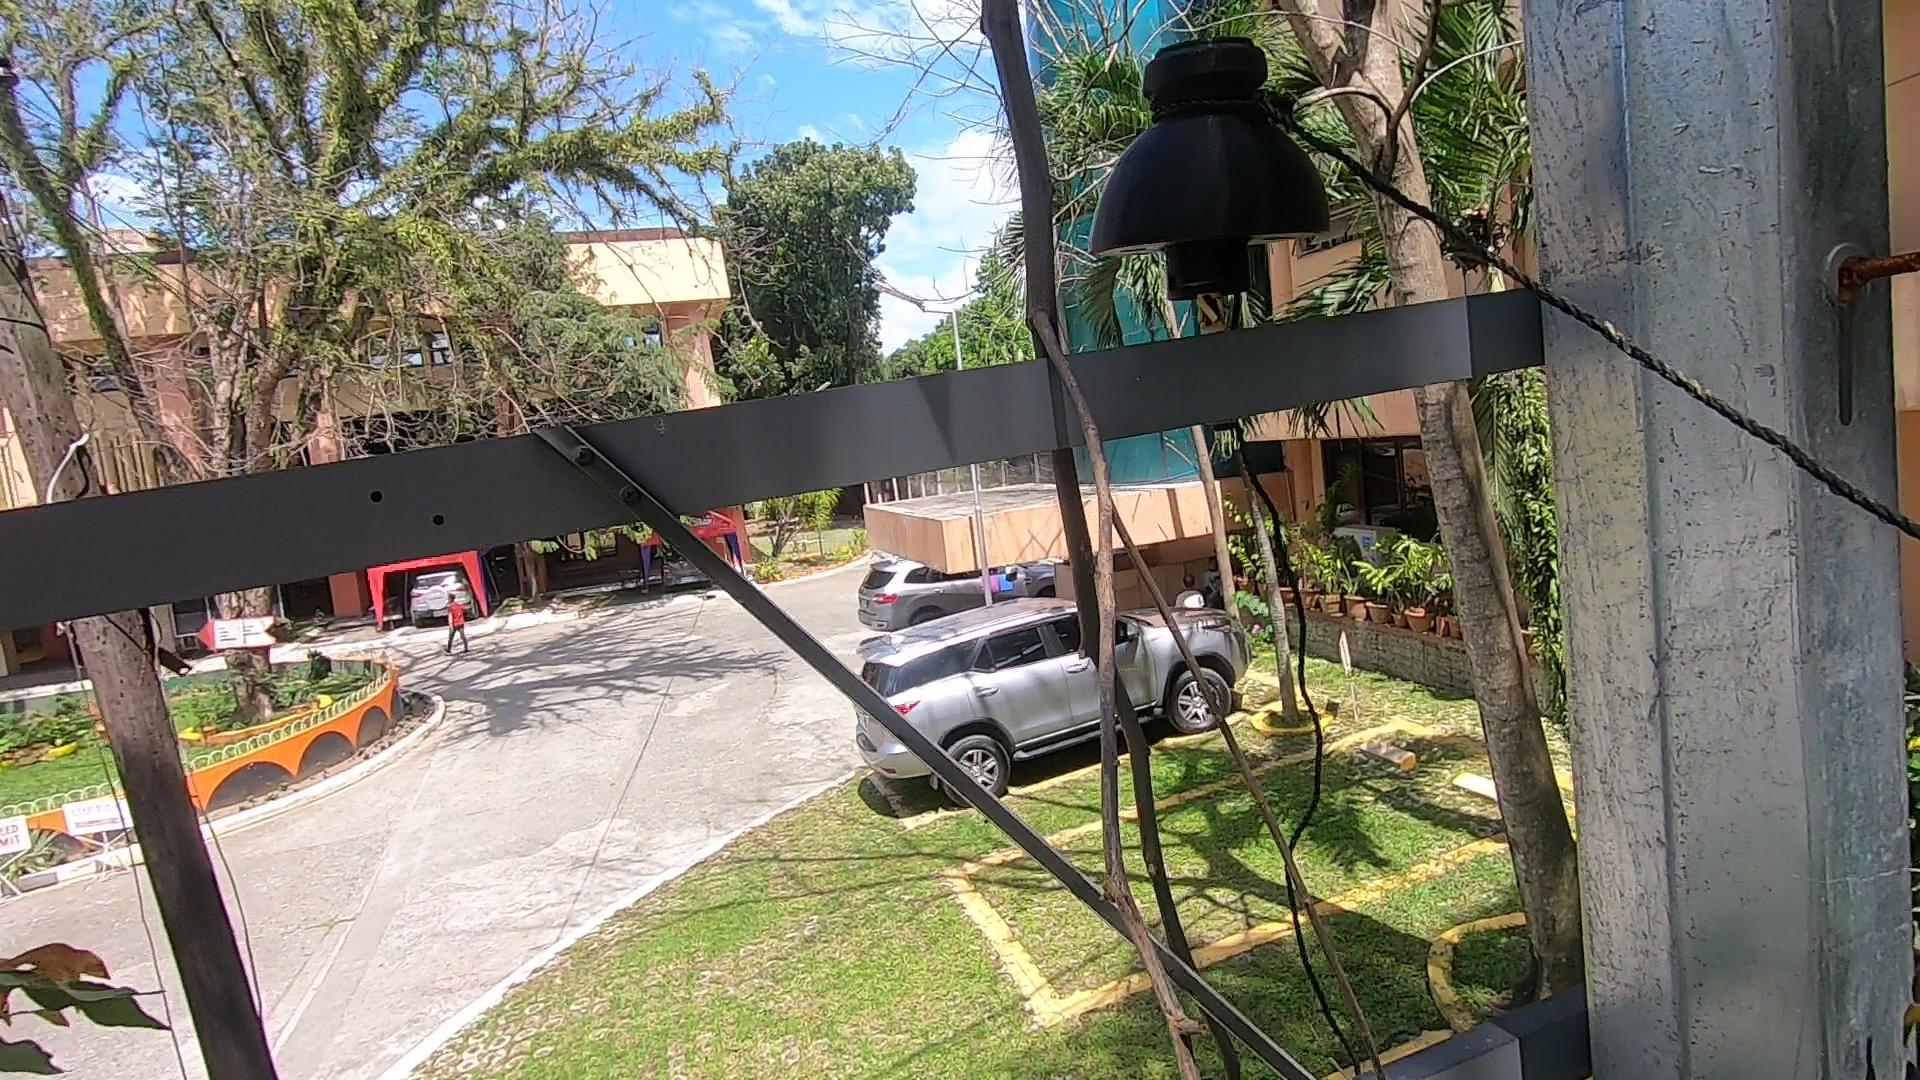tree branch: (915, 1, 1315, 1065)
